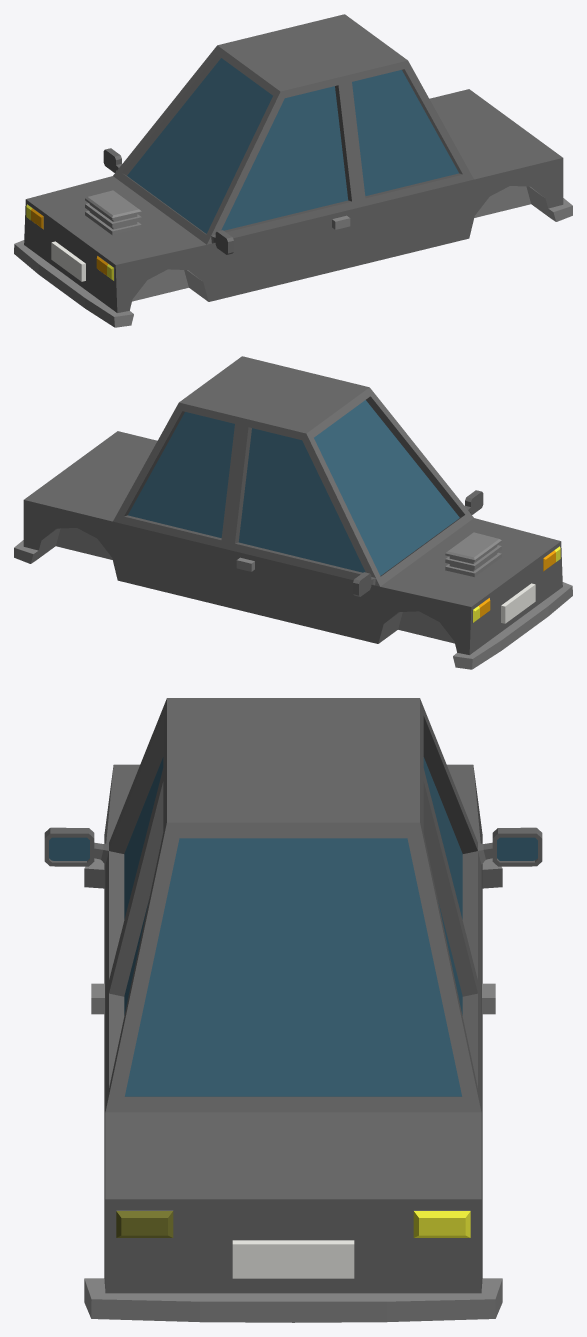
The model's file is carCrook.fbx.
The picture shows the model from 3 angles, top to bottom: view 1: azimuth 30°, elevation 25°; view 2: azimuth 150°, elevation 25°; view 3: azimuth 270°, elevation 25°; orthographic projection. The views are drawn at different scales.
Parts seen in each view (by area): view 1: carCrook; view 2: carCrook; view 3: carCrook.
Boxes of the visible parts, x1,y1,x2,y2 form: carCrook: [14, 14, 572, 327]; carCrook: [14, 356, 572, 669]; carCrook: [44, 698, 542, 1322].
Size of the model in its own units: 319 by 252 by 686.
